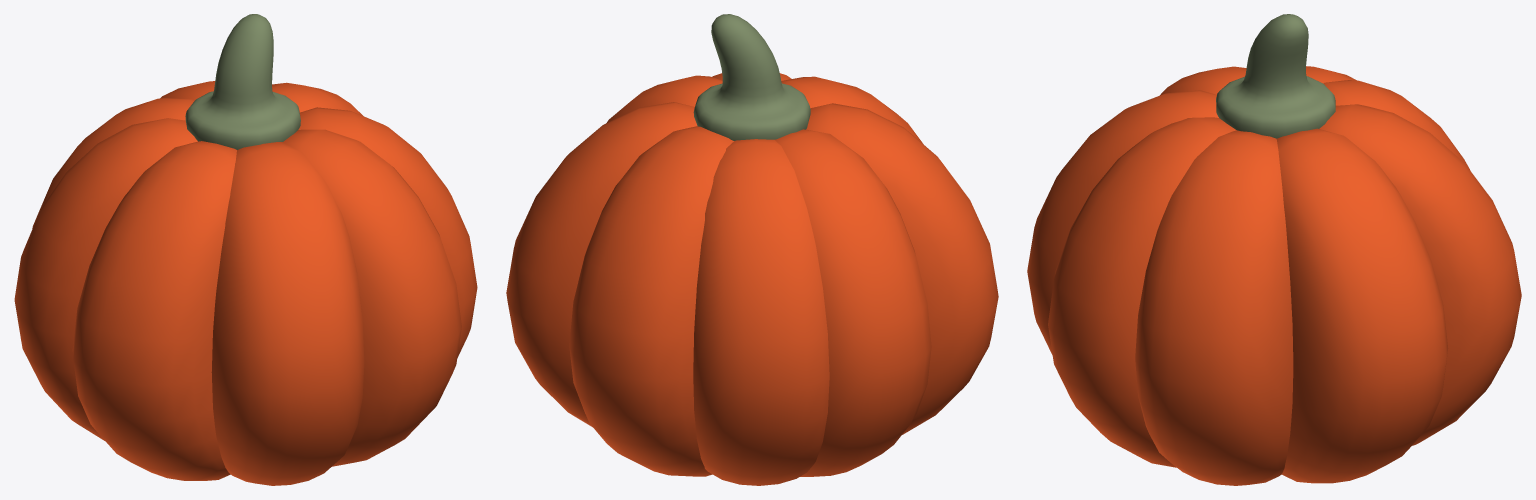
File: market-pumpkin1.fbx
3 views of the same model, side by side, from view 1: azimuth 30°, elevation 25°; view 2: azimuth 150°, elevation 25°; view 3: azimuth 270°, elevation 25° (orthographic). The views are drawn at different scales.
Visible parts, largest first — view 1: Cube.145; view 2: Cube.145; view 3: Cube.145.
Part boxes in pixels (left/top/right/bottom): Cube.145: left=14, top=14, right=477, bottom=485; Cube.145: left=506, top=14, right=998, bottom=485; Cube.145: left=1027, top=14, right=1521, bottom=485.
Bounding box in the file's own units: 30.22 × 30.62 × 31.52.
